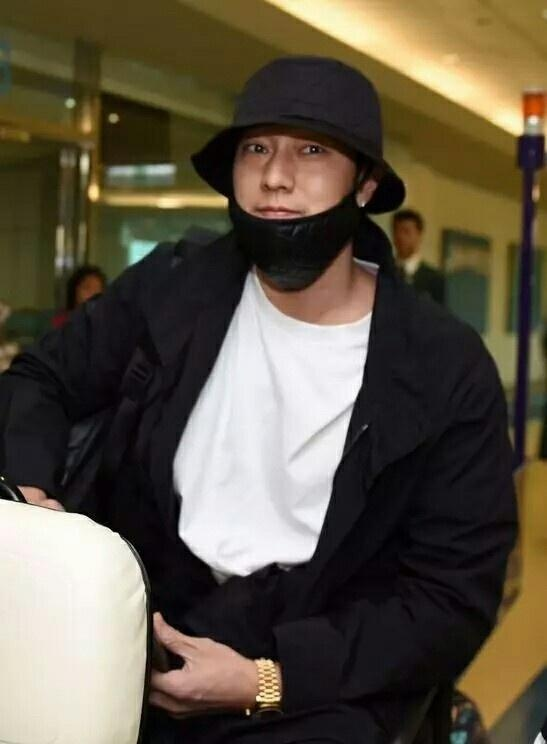Mask: (218, 125, 381, 288)
